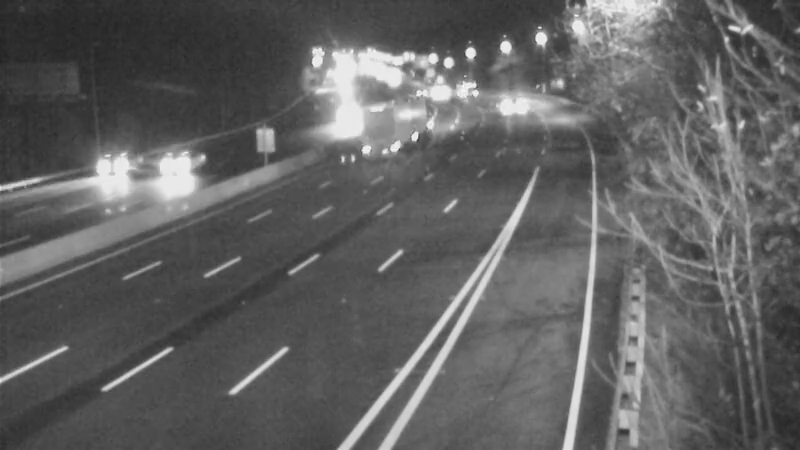vehicle: (138, 128, 218, 208), (73, 126, 153, 206), (417, 71, 467, 121), (479, 82, 529, 132), (357, 100, 407, 150), (321, 94, 371, 144)
